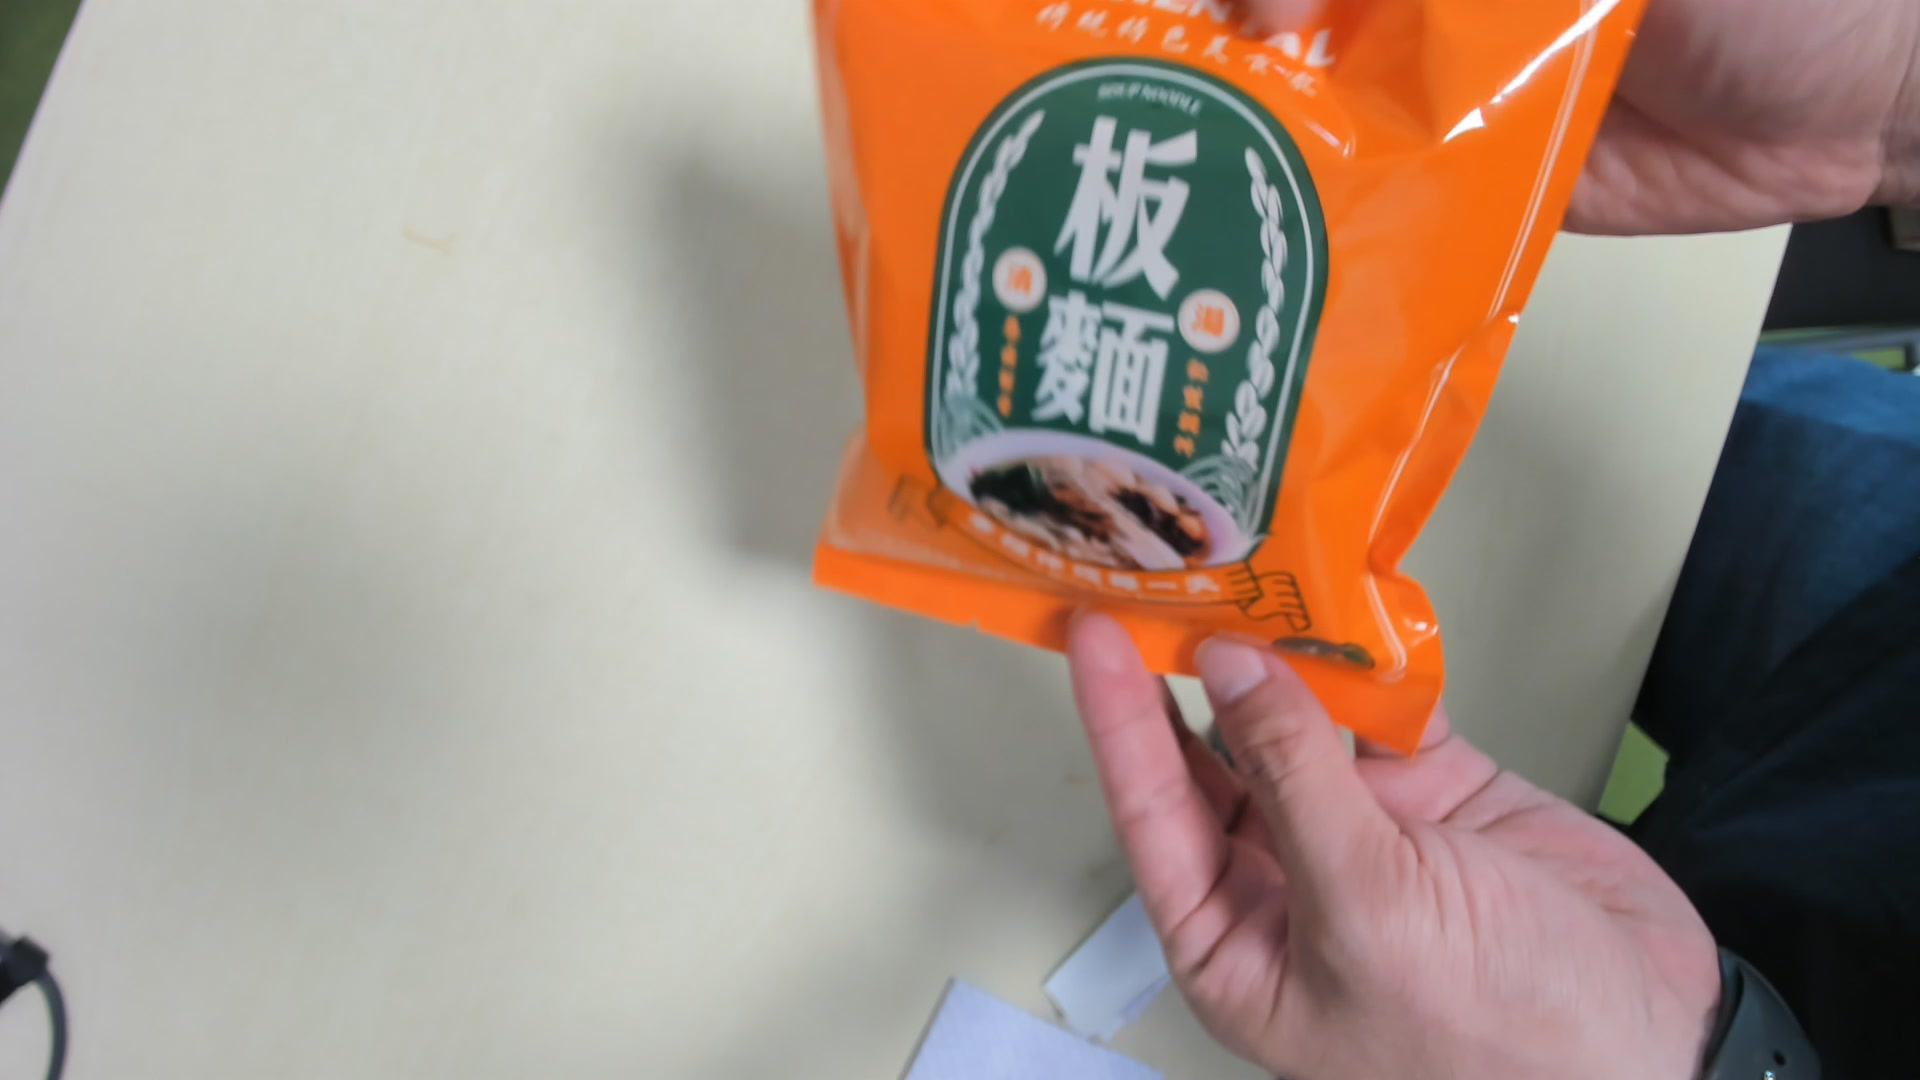InstantMeals_100-199g_NonHalal_Healthy: (804, 7, 1654, 760)
